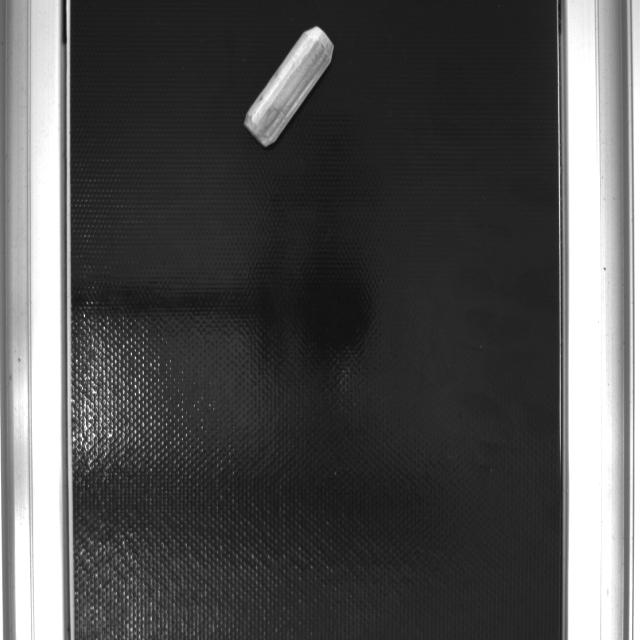Chot go: (239, 21, 340, 151)
